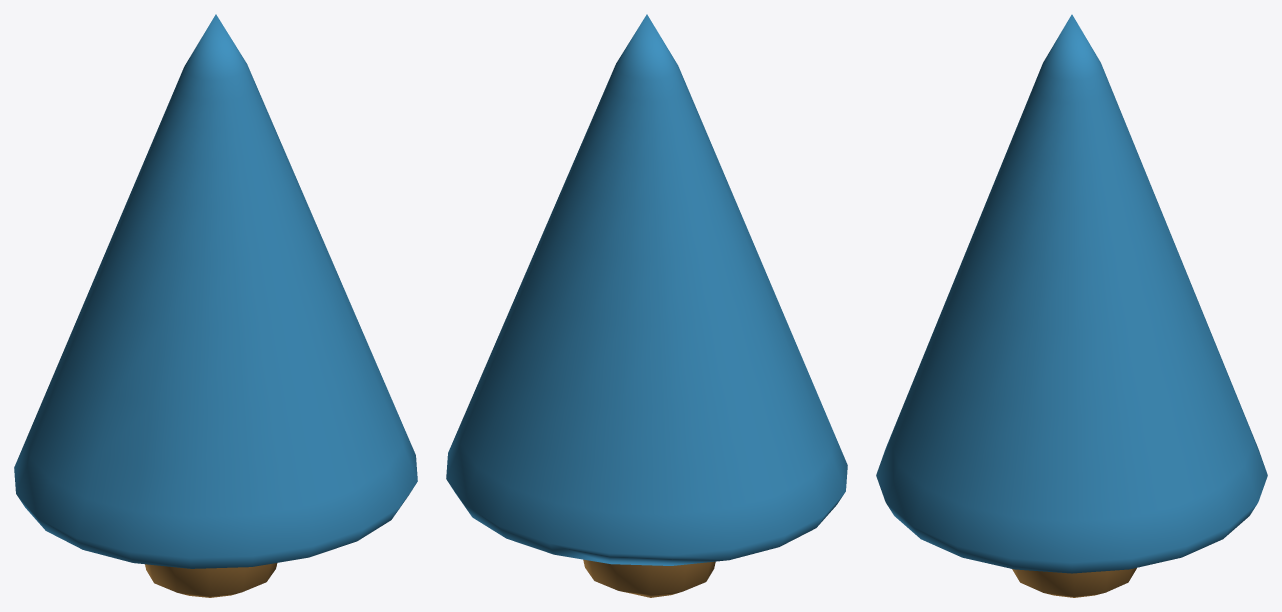
File: tree2.fbx
The picture shows the model from 3 angles, left to right: view 1: azimuth 30°, elevation 25°; view 2: azimuth 150°, elevation 25°; view 3: azimuth 270°, elevation 25°; orthographic projection.
Visible parts, largest first — view 1: pasted__tree8; view 2: pasted__tree8; view 3: pasted__tree8.
Boxes of the visible parts, <box> form: pasted__tree8: <box>14,14,417,597</box>; pasted__tree8: <box>446,14,847,597</box>; pasted__tree8: <box>876,14,1267,597</box>.
Bounding box in the file's own units: 2.68 × 4.06 × 2.54.
